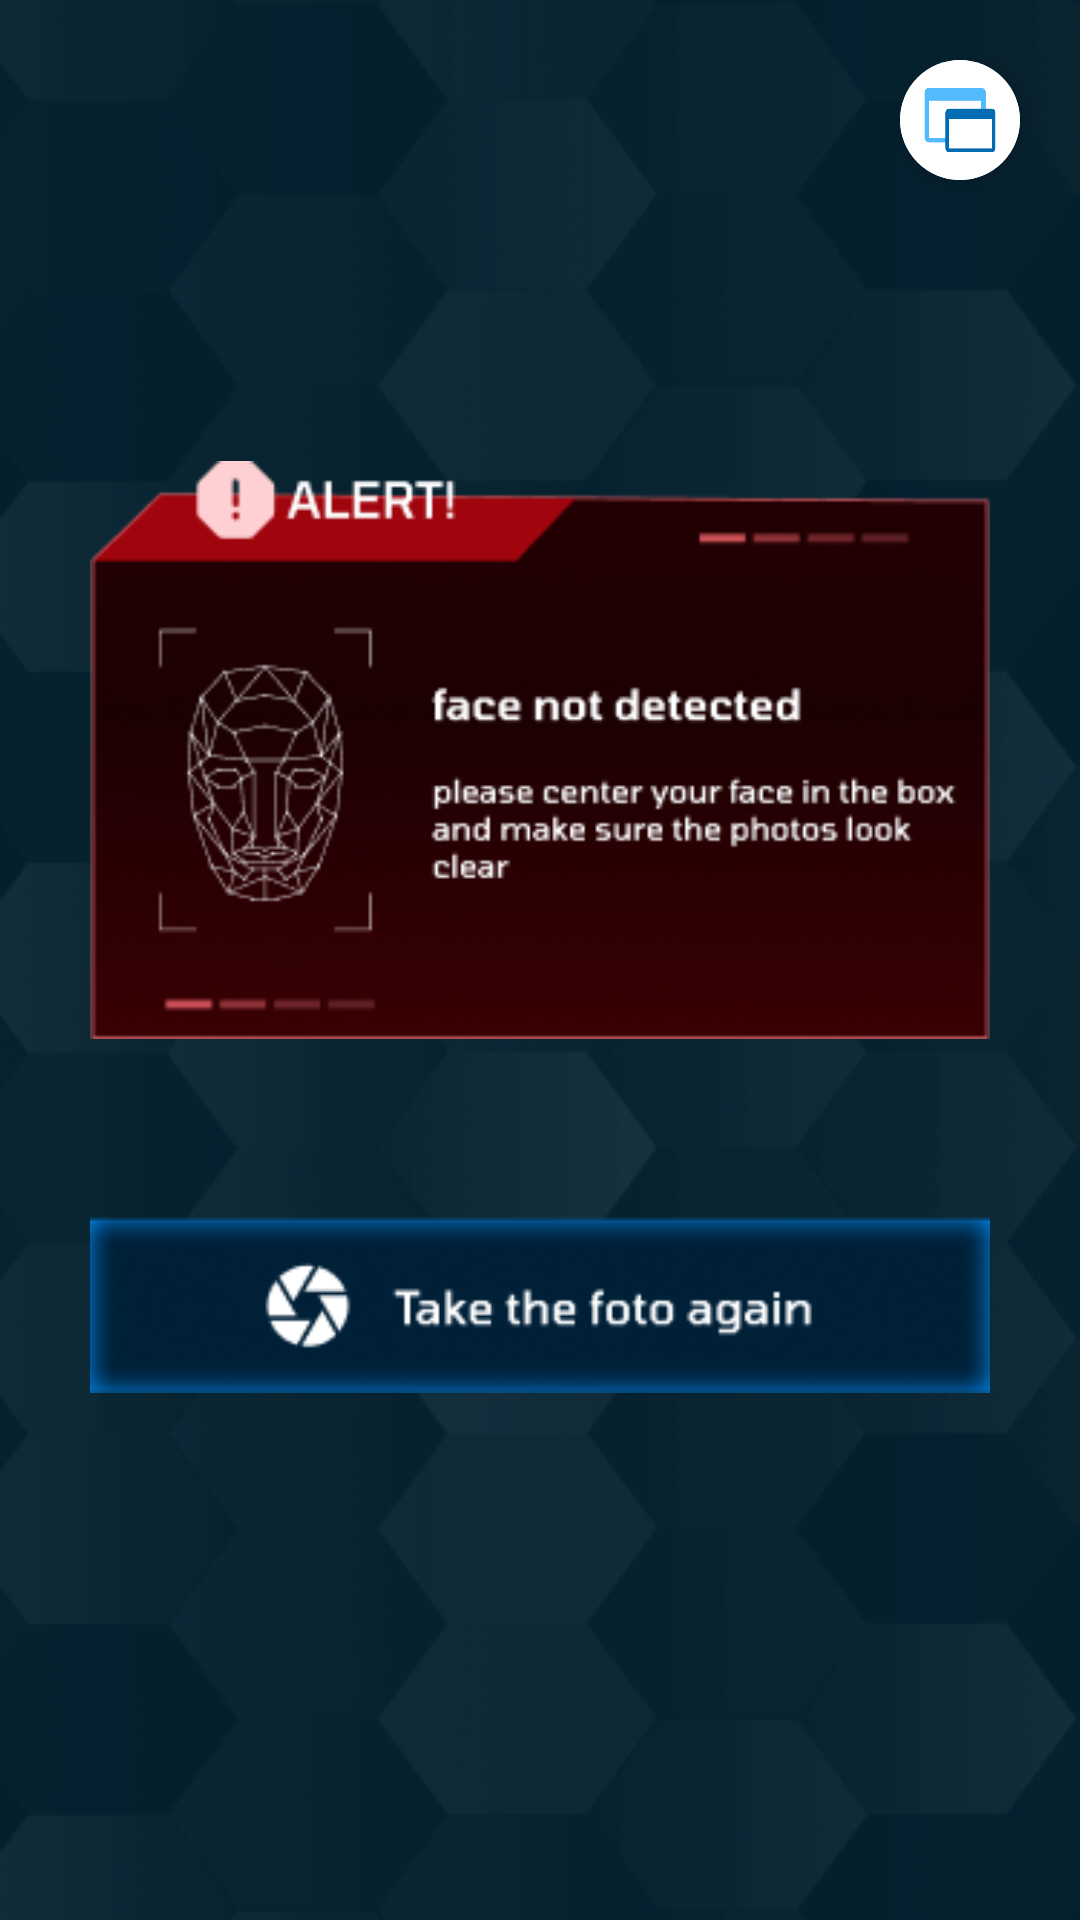

Icons on this 1080×1920 Android screen, each with its box as box(x1, y1, x2, y2):
floating: box(900, 60, 1020, 180)
